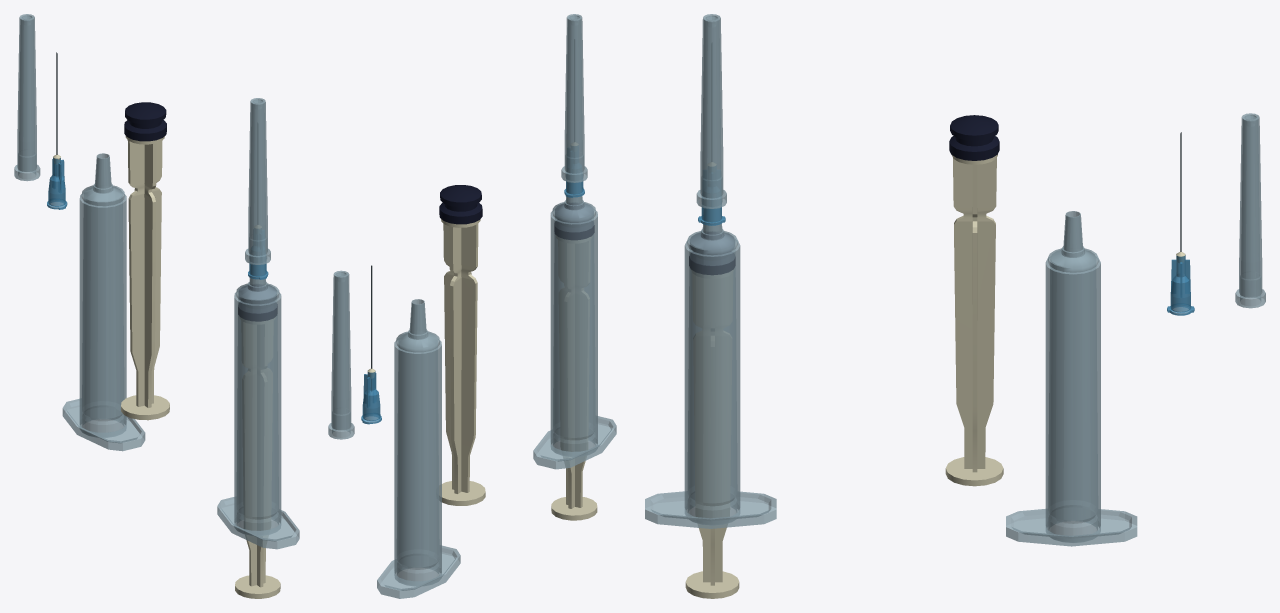
The model's file is shpriz.fbx.
3 renders of one model, left to right at view 1: azimuth 30°, elevation 25°; view 2: azimuth 150°, elevation 25°; view 3: azimuth 270°, elevation 25°, orthographic. The views are drawn at different scales.
Visible parts, largest first — view 1: top1 (×2), porshen (×2), kolpak (×2), igla (×2); view 2: top1 (×2), porshen (×2), kolpak (×2), igla (×2); view 3: top1 (×2), porshen (×2), kolpak (×2), igla (×2).
Boxes of the visible parts, box(x1,y1,x2,y2) form: top1 (×2): box(62, 153, 299, 549); porshen (×2): box(121, 102, 280, 598); kolpak (×2): box(14, 14, 270, 264); igla (×2): box(47, 52, 268, 279); top1 (×2): box(377, 182, 616, 598); porshen (×2): box(439, 185, 597, 520); kolpak (×2): box(328, 14, 587, 439); igla (×2): box(361, 39, 584, 424); top1 (×2): box(645, 208, 1137, 546); porshen (×2): box(685, 115, 1003, 598); kolpak (×2): box(696, 14, 1265, 308); igla (×2): box(698, 132, 1194, 315).
Bounding box in the file's own units: 1.45 × 12.63 × 12.47.
